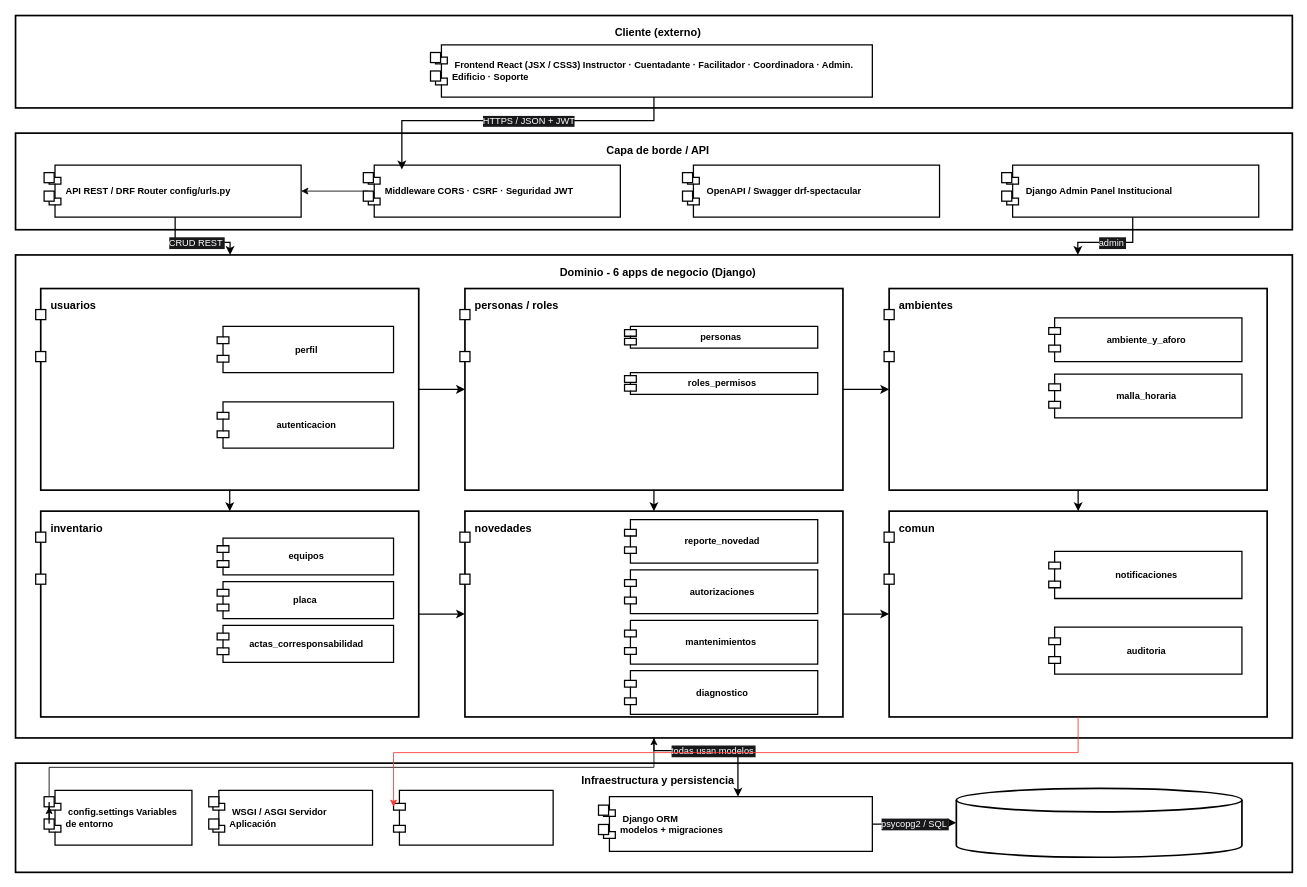
Image size: 1307x887. Some labels were removed from this diagram. Here are the shapes that lost their labels. From the top down, the centre of each, then its label:
At (x=473, y=817): "Servidor Correo SMTP(Institucional)".
At (x=1098, y=822): "PostgreSQL BD NovedaSoft (Tablas relacionales)".
